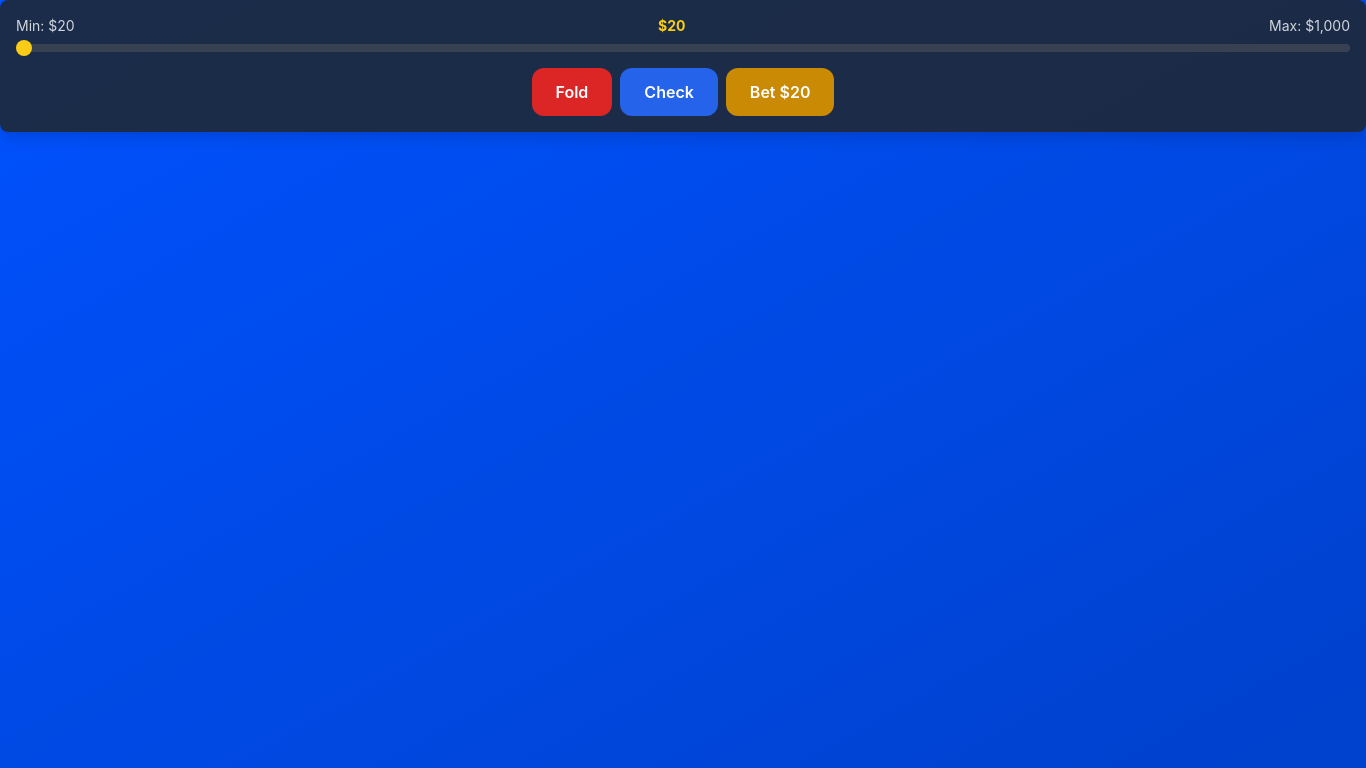
Test case: BettingControls Component - Unit Tests › Slider constraints › should update bet amount when slider is moved
Set the slider with test id "bet-slider" to "100": (132,48) [16,44,1350,52]
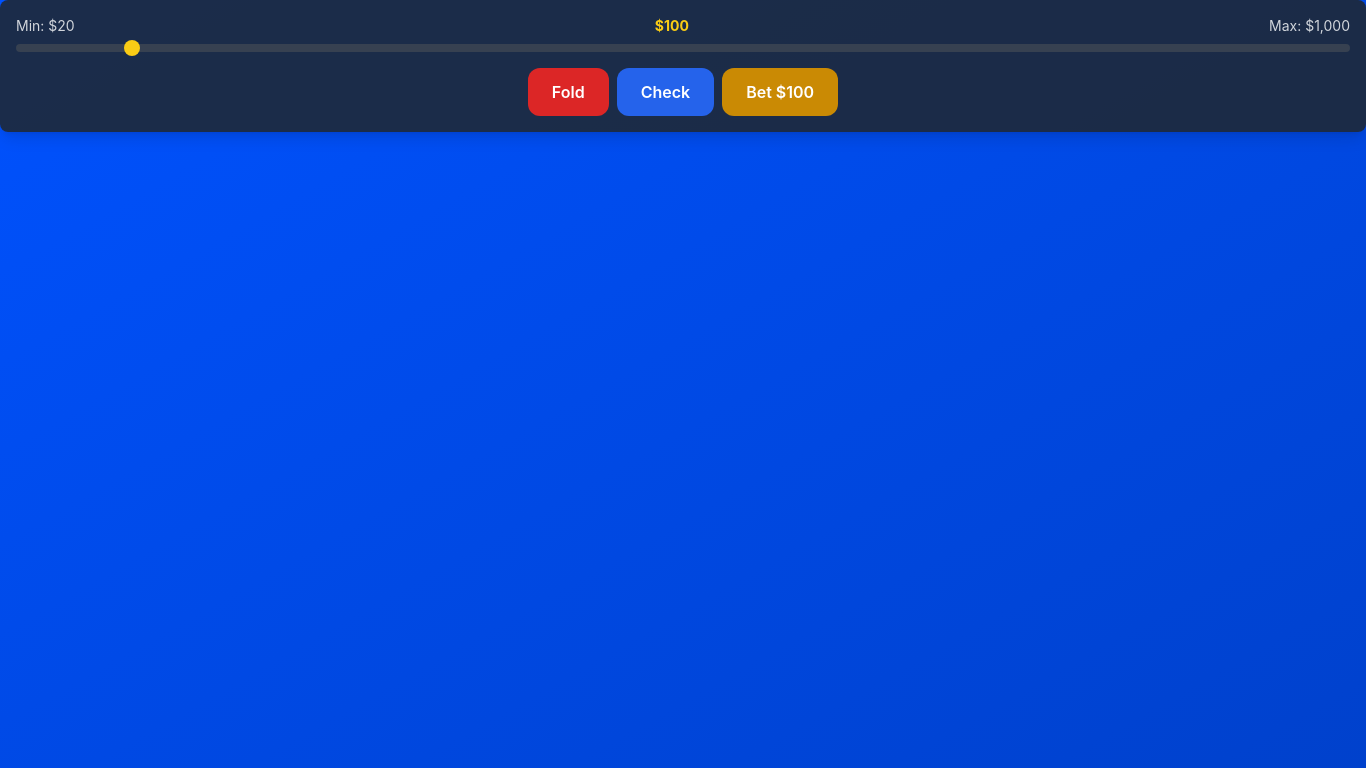
Check: the button "Bet $100" is shown, box [722,68,838,116]
